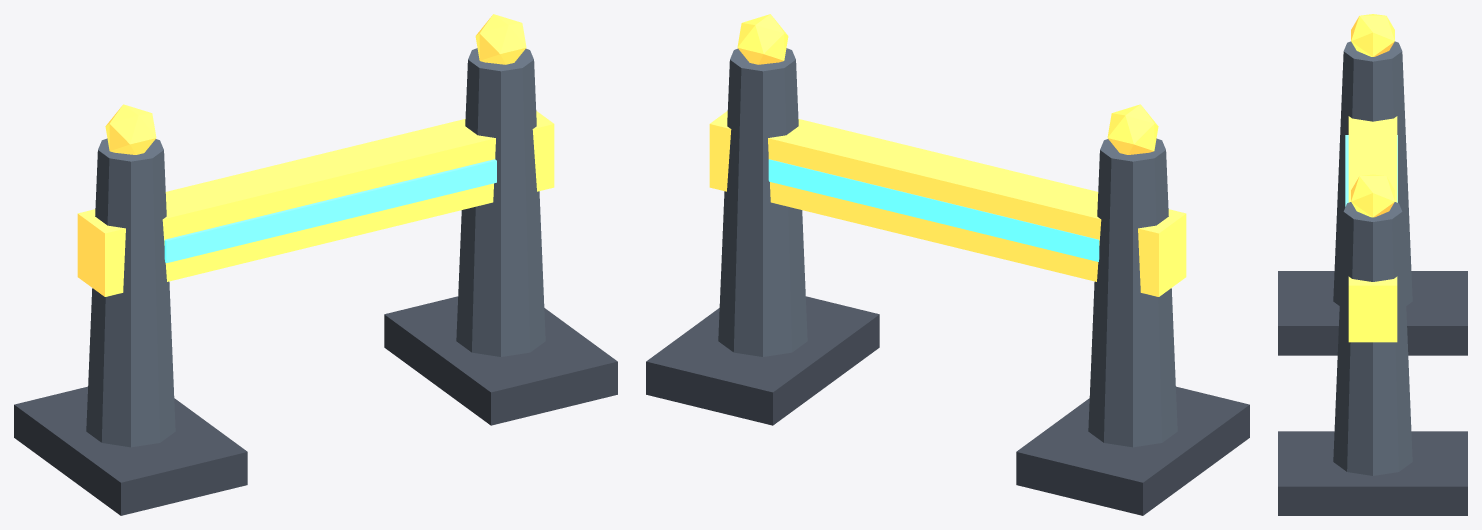
File: AXM-BARRIER-001_LOD2.glb
3 renders of one model, left to right at view 1: azimuth 30°, elevation 25°; view 2: azimuth 150°, elevation 25°; view 3: azimuth 270°, elevation 25°, orthographic. The views are drawn at different scales.
Parts seen in each view (by area): view 1: beam, post__l00, post__l01, foot__l00, foot__l01, beam_insert, light__l01, light__l00; view 2: beam, post__l00, post__l01, foot__l00, foot__l01, beam_insert, light__l01, light__l00; view 3: post__l01, foot__l01, foot__l00, post__l00, beam, light__l00, light__l01, beam_insert.
Boxes of the visible parts, x1=… form: beam: x1=77, y1=111, x2=554, y2=296; post__l00: x1=86, y1=138, x2=175, y2=447; post__l01: x1=456, y1=48, x2=545, y2=356; foot__l00: x1=14, y1=386, x2=247, y2=515; foot__l01: x1=384, y1=296, x2=617, y2=425; beam_insert: x1=164, y1=159, x2=496, y2=263; light__l01: x1=475, y1=14, x2=526, y2=64; light__l00: x1=105, y1=104, x2=156, y2=154; beam: x1=709, y1=111, x2=1186, y2=296; post__l00: x1=1088, y1=138, x2=1177, y2=447; post__l01: x1=718, y1=48, x2=807, y2=356; foot__l00: x1=1016, y1=386, x2=1249, y2=515; foot__l01: x1=646, y1=296, x2=879, y2=425; beam_insert: x1=768, y1=159, x2=1099, y2=261; light__l01: x1=737, y1=14, x2=788, y2=64; light__l00: x1=1107, y1=104, x2=1158, y2=154; post__l01: x1=1333, y1=202, x2=1412, y2=475; foot__l01: x1=1278, y1=431, x2=1467, y2=515; foot__l00: x1=1278, y1=271, x2=1467, y2=355; post__l00: x1=1333, y1=41, x2=1412, y2=305; beam: x1=1348, y1=116, x2=1397, y2=342; light__l00: x1=1351, y1=14, x2=1394, y2=56; light__l01: x1=1351, y1=174, x2=1394, y2=217; beam_insert: x1=1345, y1=135, x2=1397, y2=206.
Bounding box in the file's own units: 1.88 × 1.27 × 0.7.
